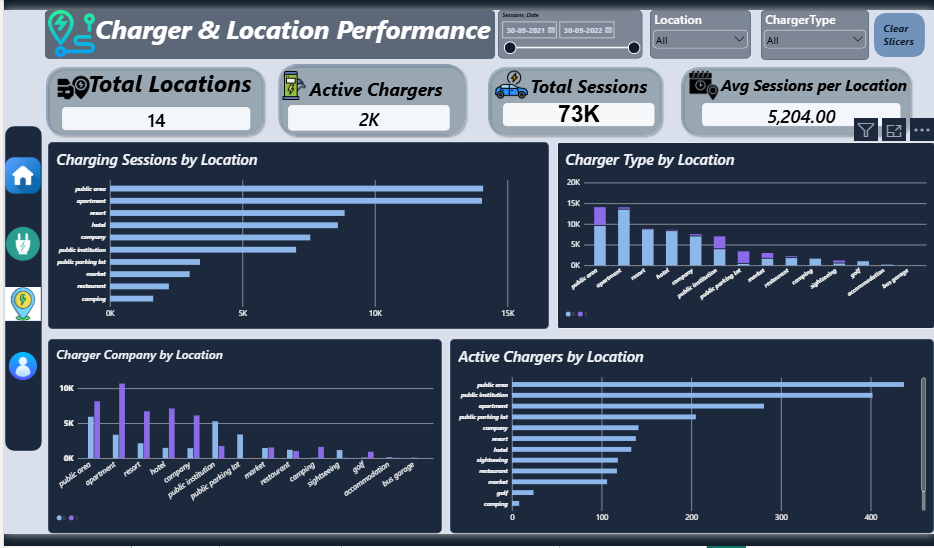

This screenshot's page, from the dashboard's own definition file:
{"tool":"powerbi","page":{"name":"Charger & Location Performance","canvas":[1920,1080],"ordinal":2},"visuals":[{"type":"group","id":"g1","title":"Group 5","box":[84.6,0,929,101.2],"z":0},{"type":"group","id":"g2","title":"Group 1","box":[557,103.2,405.5,163.1],"z":0,"group":"g7"},{"type":"group","id":"g3","title":"Group 1","box":[1387.5,108.6,530.6,156.9],"z":0,"group":"g9"},{"type":"group","id":"g4","title":"Group 1","box":[78.3,109.4,498.4,156.9],"z":0,"group":"g6"},{"type":"group","id":"g5","title":"Group 1","box":[990.2,109.4,405.4,156.9],"z":0,"group":"g8"},{"type":"shape","box":[2.2,239.5,76.3,671],"z":0,"group":"g10"},{"type":"textbox","box":[84.6,0,929,101.2],"z":1000,"group":"g1"},{"type":"group","id":"g6","title":"Group 2","box":[57.8,109.4,518.2,156.9],"z":1000},{"type":"image","box":[978.6,117,138.3,72.3],"z":1000,"group":"g8"},{"type":"image","box":[549.2,123.5,97,64],"z":1000,"group":"g7"},{"type":"image","box":[1369.8,124,148.6,64],"z":1000,"group":"g9"},{"type":"image","box":[57.8,124.8,171.9,72.3],"z":1000,"group":"g6"},{"type":"group","id":"g7","title":"Group 6","box":[549.2,103.2,412.9,163.1],"z":2000},{"type":"shape","box":[557,103.2,402.6,163.1],"z":2000,"group":"g2"},{"type":"shape","box":[1387.5,108.6,490.2,156.9],"z":2000,"group":"g3"},{"type":"shape","box":[78.3,109.4,465.4,156.9],"z":2000,"group":"g4"},{"type":"shape","box":[990.2,109.4,374.5,156.9],"z":2000,"group":"g5"},{"type":"group","id":"g8","title":"Group 2","box":[978.6,109.4,417,156.9],"z":3000},{"type":"textbox","box":[107,117.3,469.7,90.8],"z":3000,"group":"g4"},{"type":"textbox","box":[1422.8,131.6,495.3,76.6],"z":3000,"group":"g3"},{"type":"textbox","box":[1017.2,132.4,378.4,76.6],"z":3000,"group":"g5"},{"type":"textbox","box":[574.3,138.1,388.1,80.5],"z":3000,"group":"g2"},{"type":"group","id":"g9","title":"Group 2","box":[1369.8,108.6,548.3,156.9],"z":4000},{"type":"cardVisual","fields":{"Data":["ev_charging_analytics charging_sessions.Average Sessions per Location"]},"box":[1438.3,192.2,410.3,48.1],"z":4000,"group":"g3"},{"type":"cardVisual","fields":{"Data":["ev_charging_analytics charging_sessions.total_sesions"]},"box":[1029,193,313.5,48.1],"z":4000,"group":"g5"},{"type":"cardVisual","fields":{"Data":["ev_charging_analytics charging_sessions.Active Chargers"]},"box":[586.4,196.2,334.5,53.7],"z":4000,"group":"g2"},{"type":"cardVisual","fields":{"Data":["ev_charging_analytics charging_sessions.Total Locations"]},"box":[120.4,200.8,389.6,48.1],"z":4000,"group":"g4"},{"type":"clusteredBarChart","title":"Charging Sessions by Location","fields":{"Y":["ev_charging_analytics charging_sessions.total_sesions"],"Category":["ev_charging_analytics charging_sessions.Location"]},"box":[90.8,272.5,1034.3,386.1],"z":5000},{"type":"columnChart","title":"Charger Type by Location","fields":{"Y":["ev_charging_analytics charging_sessions.total_sesions"],"Category":["ev_charging_analytics charging_sessions.Location"],"Series":["ev_charging_analytics charging_sessions.ChargerType"]},"box":[1141.7,272.5,780.4,386.1],"z":6000},{"type":"clusteredBarChart","title":"Active Chargers by Location","fields":{"Category":["ev_charging_analytics charging_sessions.Location"],"Y":["Count(ev_charging_analytics charging_sessions.ChargerID)"]},"box":[920.8,679.2,999.2,400.5],"z":7000},{"type":"clusteredColumnChart","title":"Charger Company by Location","fields":{"Category":["ev_charging_analytics charging_sessions.Location"],"Y":["ev_charging_analytics charging_sessions.total_sesions"],"Series":["ev_charging_analytics charging_sessions.ChargerCompany"]},"box":[90.8,679.2,813.4,400.5],"z":8000},{"type":"slicer","fields":{"Values":["ev_charging_analytics charging_sessions.Location"]},"box":[1333.7,0,208,100],"z":9000},{"type":"slicer","fields":{"Values":["ev_charging_analytics charging_sessions.ChargerType"]},"box":[1562.8,0,223,103.2],"z":10000},{"type":"slicer","fields":{"Values":["ev_charging_analytics charging_sessions.Sessions_Date"]},"box":[1019.9,0,297.5,100],"z":11000},{"type":"actionButton","box":[1796.1,6.2,105.3,90.8],"z":12000},{"type":"group","id":"g10","title":"Group 4","box":[2.1,239.5,76.4,671],"z":13000},{"type":"image","box":[2.2,291.9,74.3,101.2],"z":16000,"group":"g10"},{"type":"image","box":[4.2,440.6,70.2,86.7],"z":17000,"group":"g10"},{"type":"image","box":[2.1,572.7,74.3,70.2],"z":18000,"group":"g10"},{"type":"image","box":[4.1,705.1,70.2,57.8],"z":19000,"group":"g10"},{"type":"image","box":[90.9,0,97.2,97],"z":19002,"group":"g1"}]}

Visuals, with their boxes on the page's 1920x1080 design canvas (x1, y1, x2, y2). These are canvas units, not pixel positions in the 934x548 screenshot, which may show the page scaled, cropped or inside an application window:
"Group 5" group: l=85, t=0, r=1014, b=101
"Group 1" group: l=557, t=103, r=962, b=266
"Group 1" group: l=1388, t=109, r=1918, b=266
"Group 1" group: l=78, t=109, r=577, b=266
"Group 1" group: l=990, t=109, r=1396, b=266
shape: l=2, t=240, r=78, b=910
textbox: l=85, t=0, r=1014, b=101
"Group 2" group: l=58, t=109, r=576, b=266
image: l=979, t=117, r=1117, b=189
image: l=549, t=124, r=646, b=188
image: l=1370, t=124, r=1518, b=188
image: l=58, t=125, r=230, b=197
"Group 6" group: l=549, t=103, r=962, b=266
shape: l=557, t=103, r=960, b=266
shape: l=1388, t=109, r=1878, b=266
shape: l=78, t=109, r=544, b=266
shape: l=990, t=109, r=1365, b=266
"Group 2" group: l=979, t=109, r=1396, b=266
textbox: l=107, t=117, r=577, b=208
textbox: l=1423, t=132, r=1918, b=208
textbox: l=1017, t=132, r=1396, b=209
textbox: l=574, t=138, r=962, b=219
"Group 2" group: l=1370, t=109, r=1918, b=266
cardVisual - ev_charging_analytics charging_sessions.Average Sessions per Location: l=1438, t=192, r=1849, b=240
cardVisual - ev_charging_analytics charging_sessions.total_sesions: l=1029, t=193, r=1342, b=241
cardVisual - ev_charging_analytics charging_sessions.Active Chargers: l=586, t=196, r=921, b=250
cardVisual - ev_charging_analytics charging_sessions.Total Locations: l=120, t=201, r=510, b=249
"Charging Sessions by Location" clusteredBarChart: l=91, t=272, r=1125, b=659
"Charger Type by Location" columnChart: l=1142, t=272, r=1922, b=659
"Active Chargers by Location" clusteredBarChart: l=921, t=679, r=1920, b=1080
"Charger Company by Location" clusteredColumnChart: l=91, t=679, r=904, b=1080
slicer - ev_charging_analytics charging_sessions.Location: l=1334, t=0, r=1542, b=100
slicer - ev_charging_analytics charging_sessions.ChargerType: l=1563, t=0, r=1786, b=103
slicer - ev_charging_analytics charging_sessions.Sessions_Date: l=1020, t=0, r=1317, b=100
actionButton: l=1796, t=6, r=1901, b=97
"Group 4" group: l=2, t=240, r=78, b=910
image: l=2, t=292, r=76, b=393
image: l=4, t=441, r=74, b=527
image: l=2, t=573, r=76, b=643
image: l=4, t=705, r=74, b=763
image: l=91, t=0, r=188, b=97
